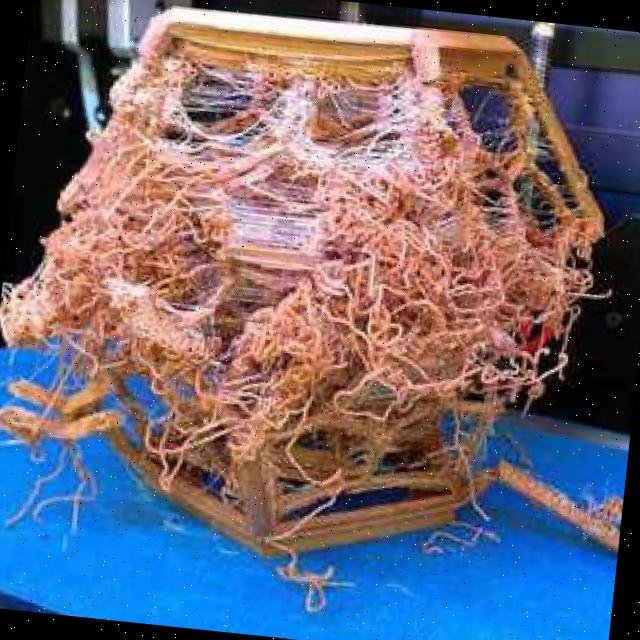spaghetti: (0, 54, 612, 555)
